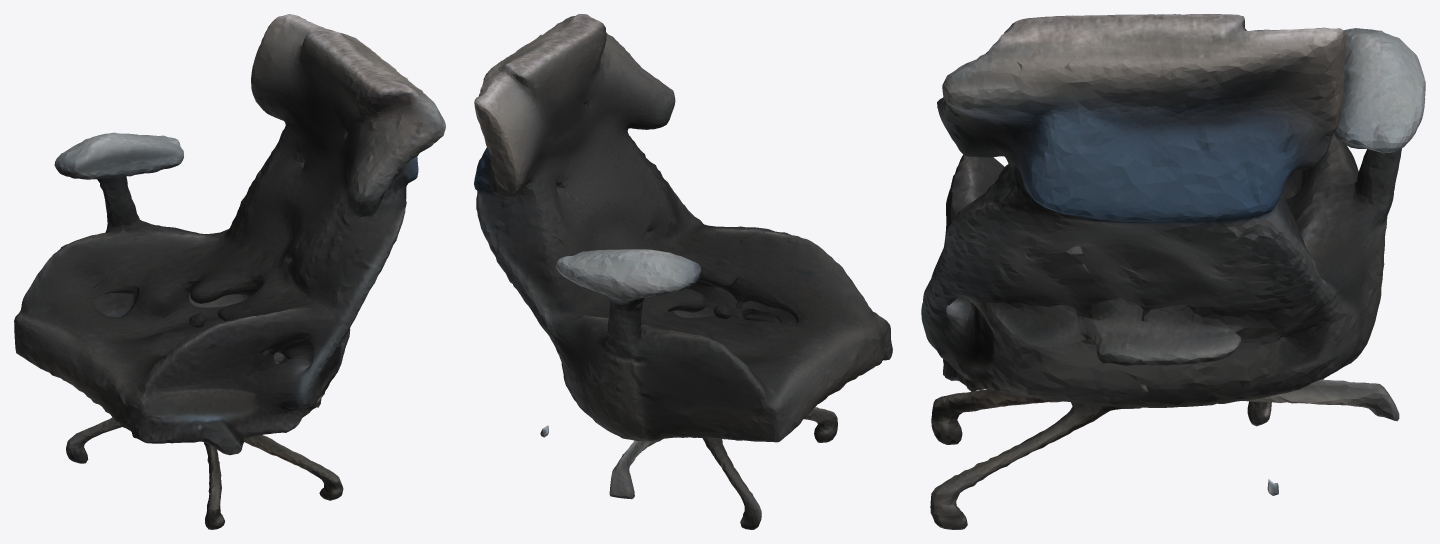
Rendered from IMG_SEG_13.glb.
3 renders of one model, left to right at view 1: azimuth 30°, elevation 25°; view 2: azimuth 150°, elevation 25°; view 3: azimuth 270°, elevation 25°, orthographic. The views are drawn at different scales.
Size of the model in its own units: 0.8644 by 0.9883 by 0.7854.
1 material, 1 textured.
